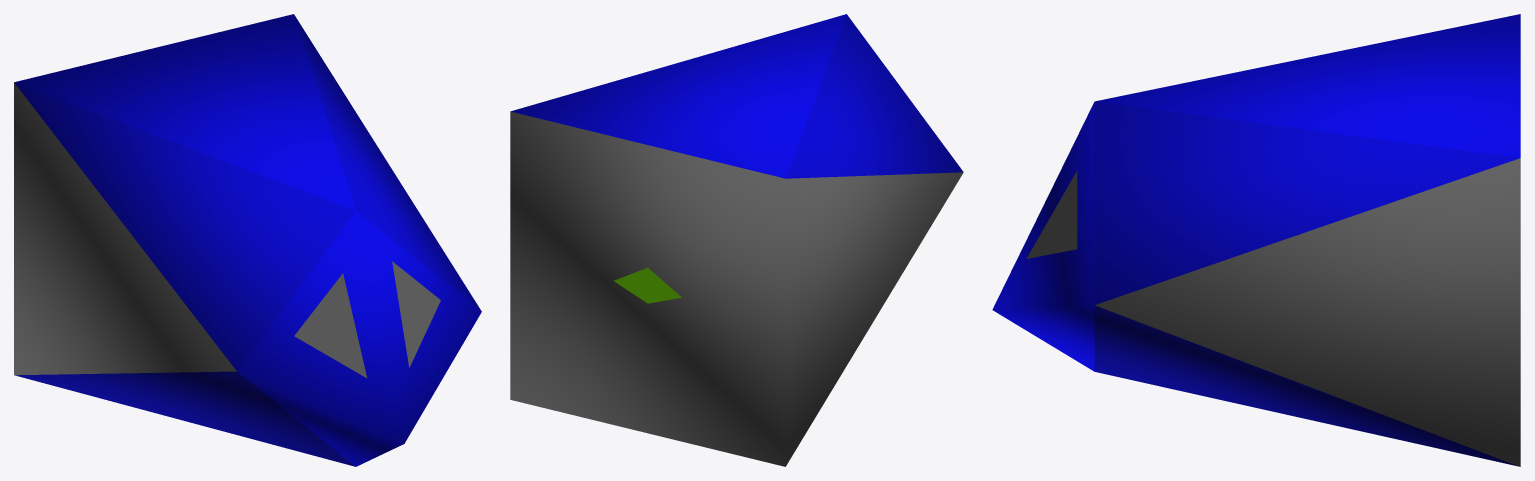
Rendered from Shuttle.gltf.
3 renders of one model, left to right at view 1: azimuth 30°, elevation 25°; view 2: azimuth 150°, elevation 25°; view 3: azimuth 270°, elevation 25°, orthographic. The views are drawn at different scales.
Visible parts, largest first — view 1: shuttle; view 2: shuttle; view 3: shuttle.
Boxes of the visible parts, left/top/right/bottom form: shuttle: left=14, top=14, right=481, bottom=466; shuttle: left=510, top=14, right=963, bottom=466; shuttle: left=992, top=14, right=1520, bottom=466.
Size of the model in its own units: 0.02 by 0.02 by 0.031.
